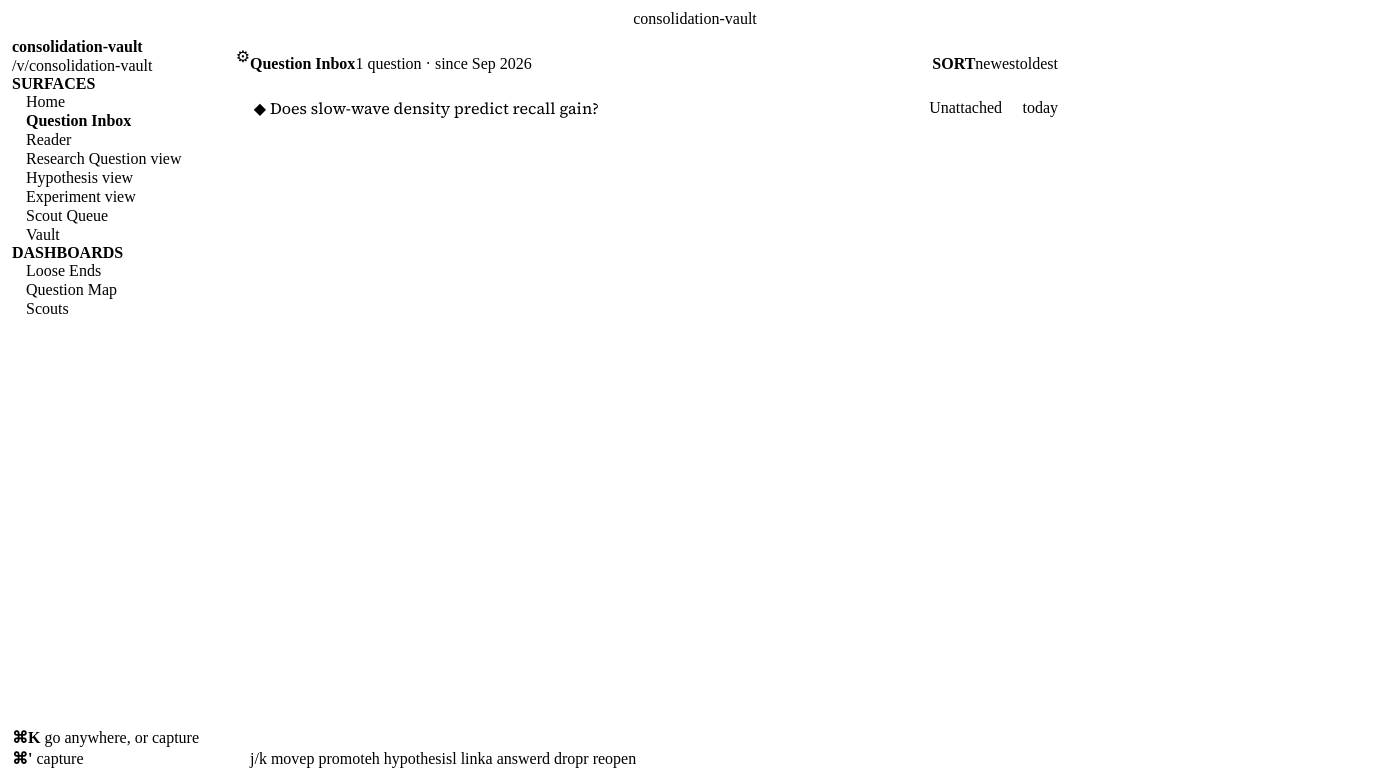
Test: promote to Hypothesis › a refused promotion says why on the row, keeps the typing, and stays on the Inbox
Step 1. Click the option → {"x": 434, "y": 108}, box [250,90,1058,126]
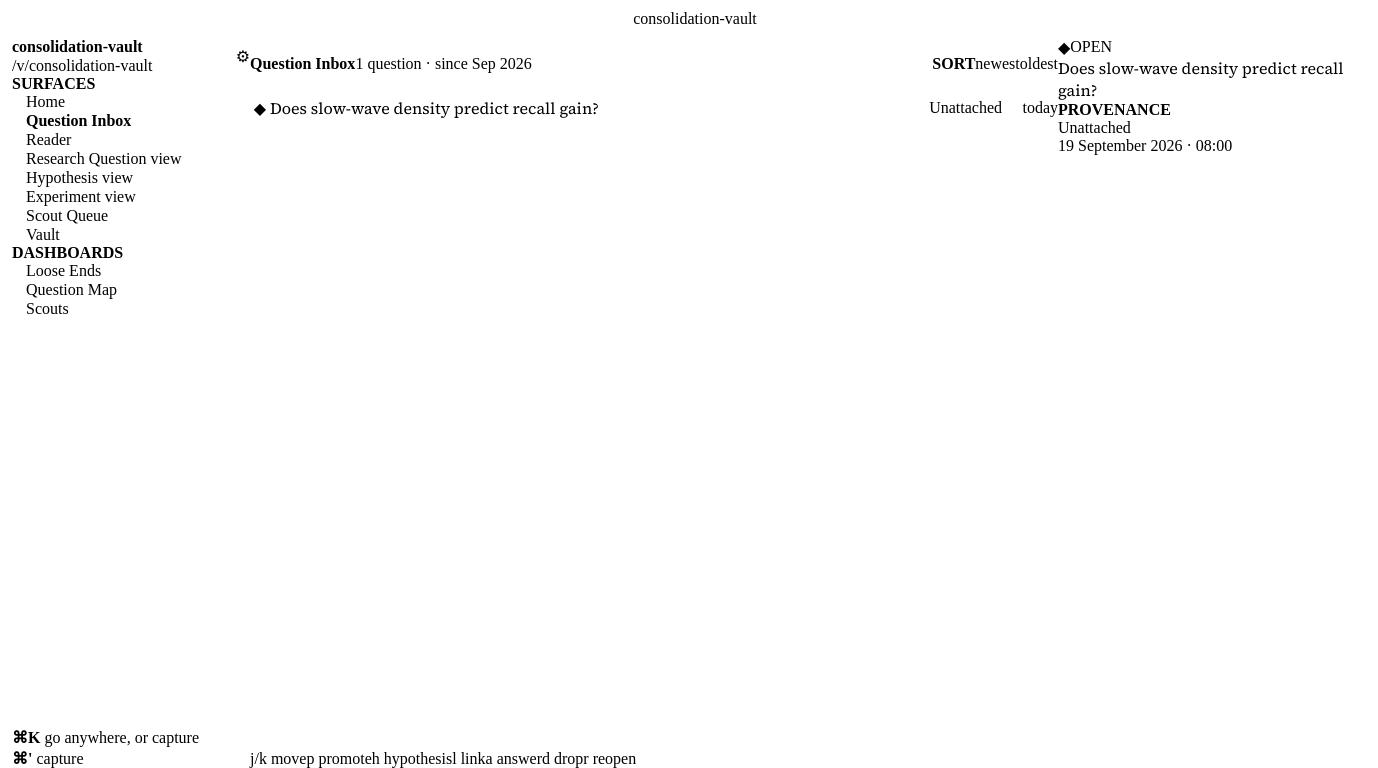
Step 2. Press h in the list named "Questions", box [254,97,1058,119]
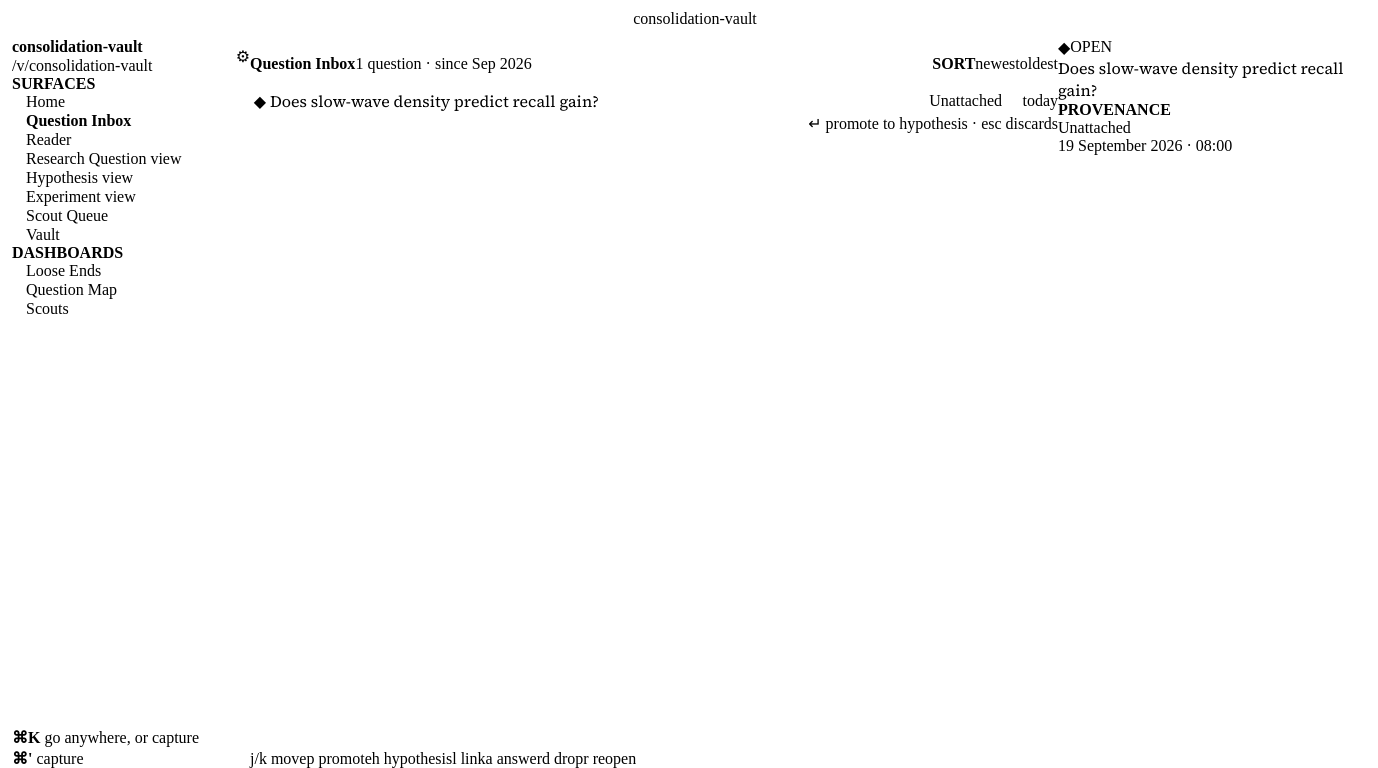
Step 3. Type "Slow-wave density during the nap predicts next-day recall gain." into the field named "Claim" → {"x": 539, "y": 123}, box [270,112,808,134]
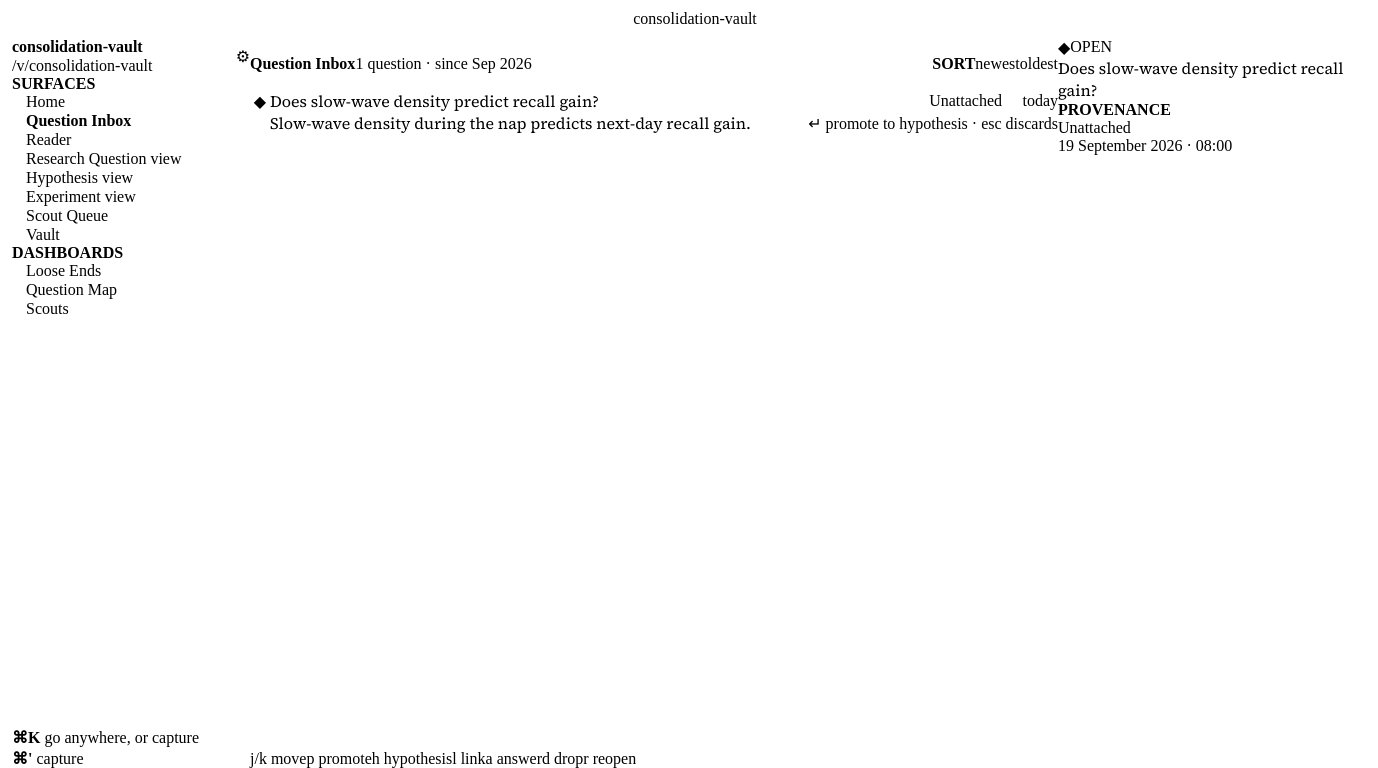
Step 4. Press Enter in the field named "Claim", box [270,112,808,134]
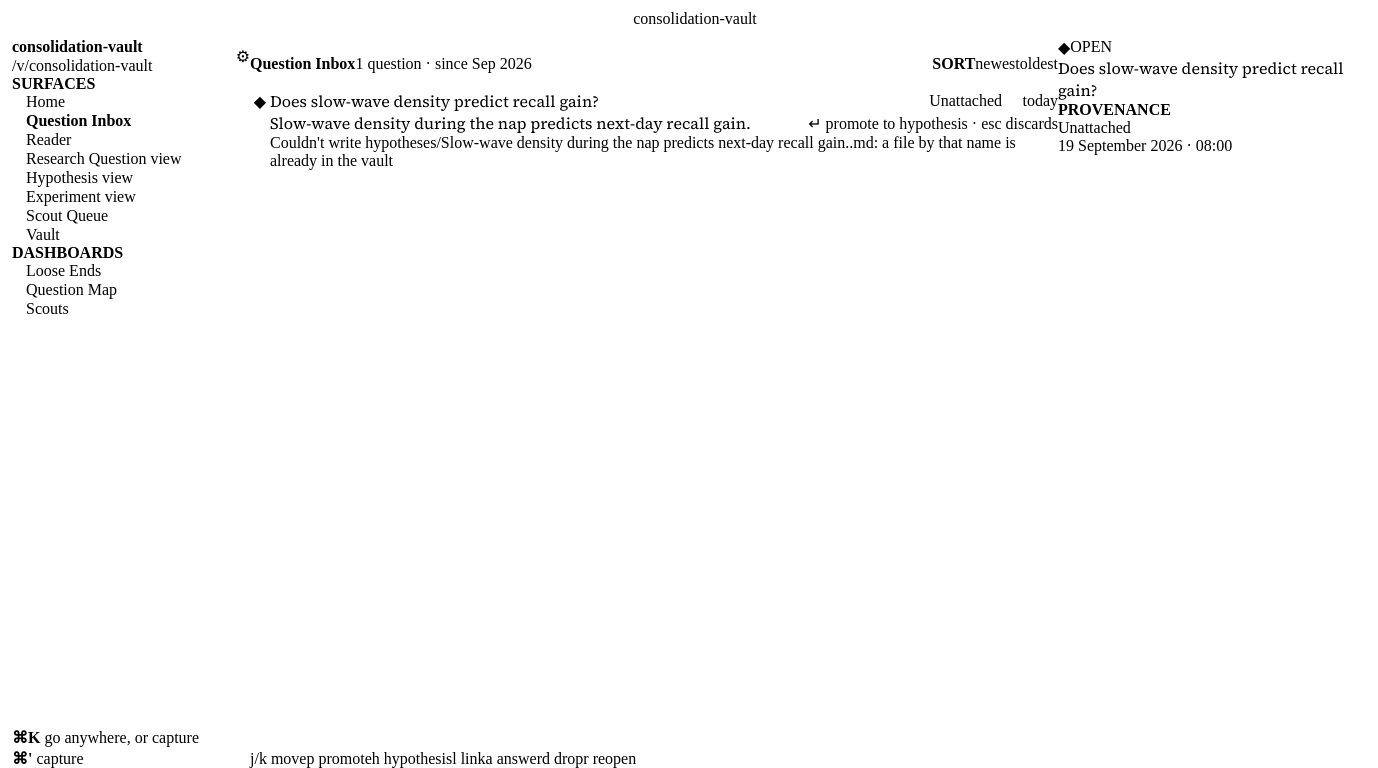
Now the message shows "already in the vault", box [270,134,1016,169]
